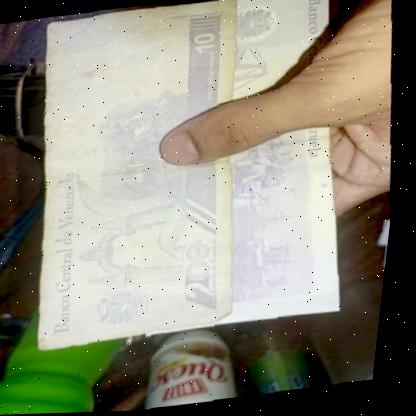ten-back-vef: (18, 0, 267, 352)
two_hundred-back-vef: (121, 0, 378, 340)
